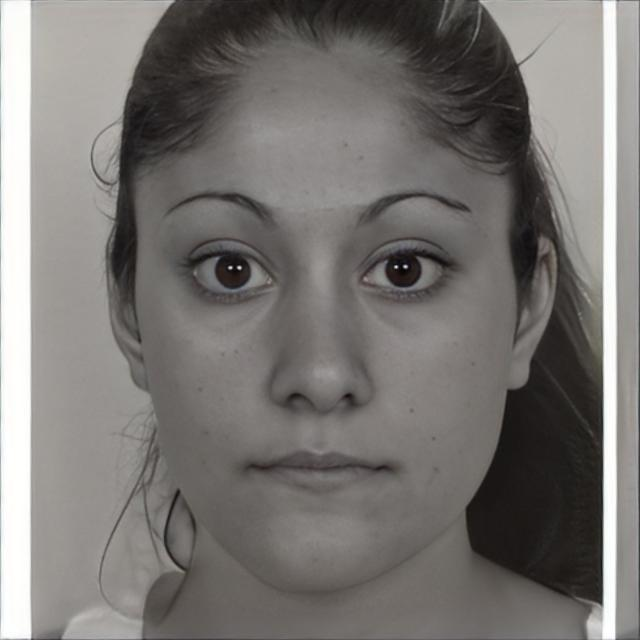surprise: (133, 41, 519, 596)
